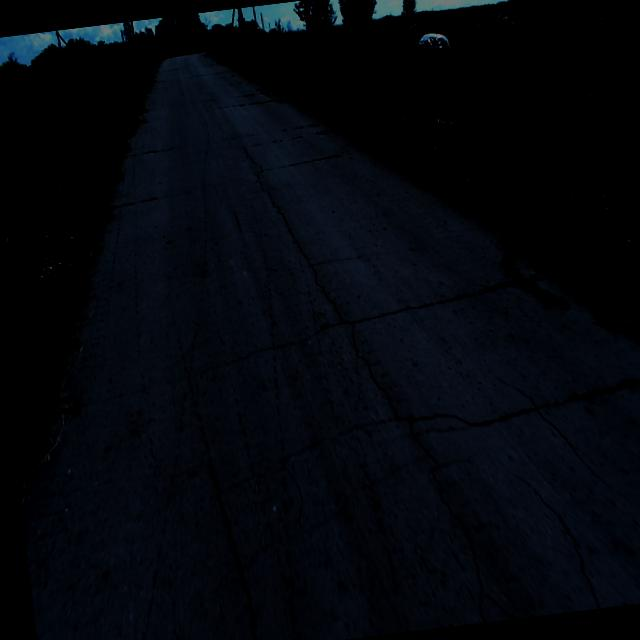road: (20, 52, 640, 640)
